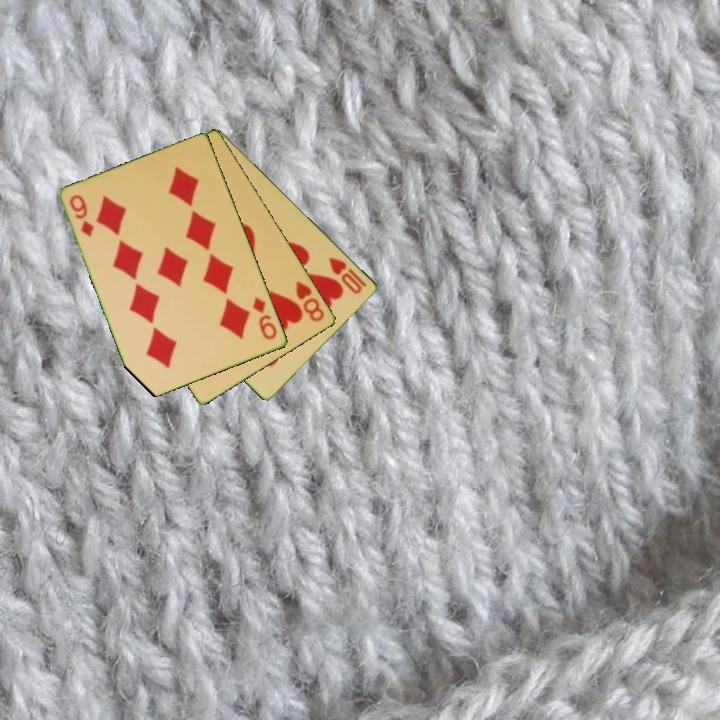10h: (325, 254, 370, 297)
8h: (292, 277, 328, 325)
9d: (66, 191, 97, 240), (250, 294, 280, 343)
